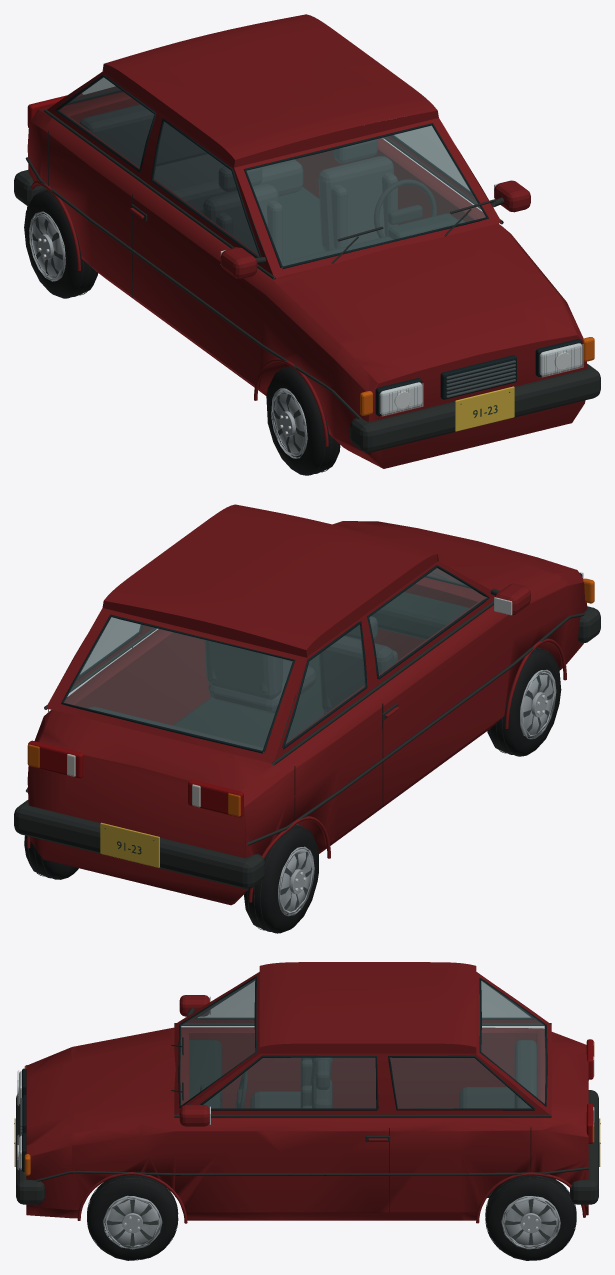
Rendered from kei-hatch-lod1.glb.
3 renders of one model, top to bottom at view 1: azimuth 30°, elevation 25°; view 2: azimuth 150°, elevation 25°; view 3: azimuth 270°, elevation 25°, orthographic. The views are drawn at different scales.
Visible parts, largest first — view 1: formed steel body, windshield, cloth cushion, belt molding, windshield gasket, tire casing, interior floor, rim bead, headrest post, registration plate, headlamp reflector, fluted headlamp cover (+2 smaller); view 2: formed steel body, windshield, belt molding, cloth cushion, tire casing, interior floor, windshield gasket, rim bead, rear combination lamp, registration plate, front indicator, headrest post; view 3: formed steel body, windshield, tire casing, belt molding, cloth cushion, windshield gasket, rim bead, interior floor, headrest post, rear combination lamp.
Part boxes in pixels (box(x1,y1,x2,y2)): formed steel body: box(27, 14, 587, 468); windshield: box(59, 77, 485, 266); cloth cushion: box(80, 104, 397, 261); belt molding: box(14, 109, 600, 475); windshield gasket: box(48, 74, 582, 416); tire casing: box(24, 189, 340, 475); interior floor: box(279, 187, 464, 266); rim bead: box(29, 211, 307, 458); headrest post: box(32, 213, 515, 456); registration plate: box(455, 386, 514, 431); headlamp reflector: box(379, 343, 582, 415); fluted headlamp cover: box(382, 344, 583, 416); formed steel body: box(26, 504, 587, 905); windshield: box(64, 568, 487, 750); belt molding: box(14, 572, 600, 933); cloth cushion: box(88, 616, 397, 750); tire casing: box(24, 647, 561, 933); interior floor: box(173, 592, 469, 825); windshield gasket: box(48, 565, 582, 820); rim bead: box(278, 669, 556, 916); rear combination lamp: box(28, 740, 243, 817); registration plate: box(100, 822, 159, 867); front indicator: box(27, 578, 594, 816); headrest post: box(104, 673, 553, 914); formed steel body: box(26, 962, 588, 1223); windshield: box(180, 979, 545, 1108); tire casing: box(87, 1175, 575, 1260); belt molding: box(16, 1008, 598, 1260); cloth cushion: box(250, 1040, 536, 1108); windshield gasket: box(22, 976, 547, 1212); rim bead: box(103, 1195, 560, 1249); interior floor: box(175, 1040, 493, 1197); headrest post: box(14, 1098, 600, 1247); rear combination lamp: box(586, 1039, 593, 1143).
Bounding box in the file's own units: 1.65 × 1.39 × 3.44.
